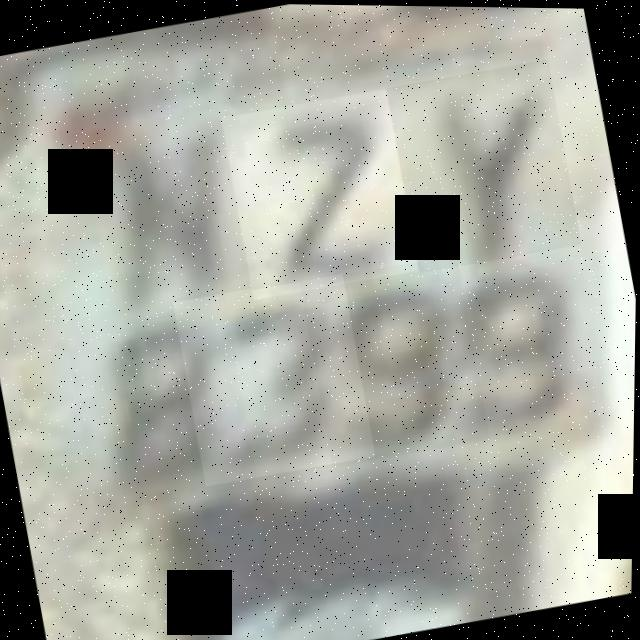3: (172, 271, 379, 487)
9: (412, 227, 625, 456), (299, 251, 494, 468)
B: (62, 290, 262, 516)
N: (65, 101, 269, 332)
Y: (385, 56, 584, 274)
Z: (220, 86, 421, 301)
